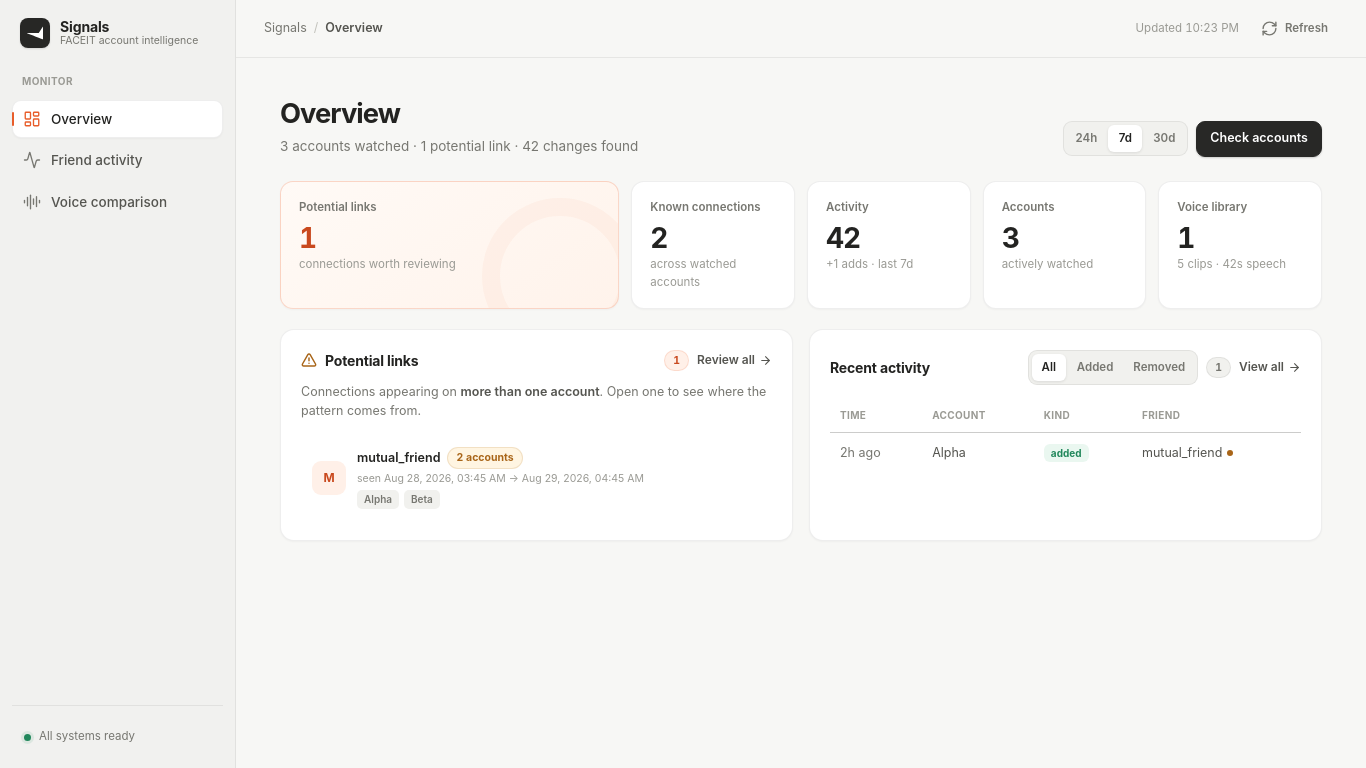
Scenario: overview dashboard › opens the watch list filtered when an overlap row is clicked
The image size is (1366, 768).
expect the text "2 accounts" is shown: met, box [448,447,523,468]
Click the button "mutual_friend": point(536, 478) [301,436,772,520]
(page scrolled)
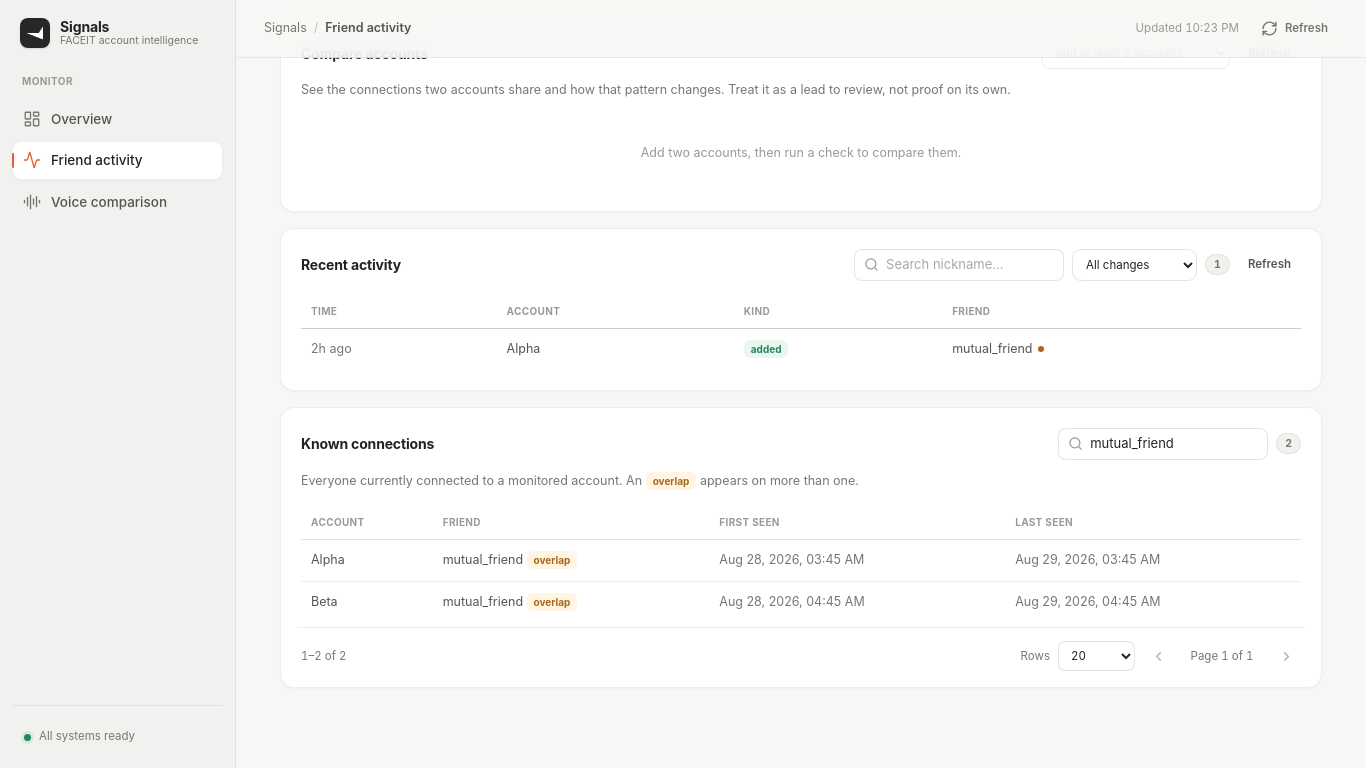
expect the search field named "Search watched friends" holds "mutual_friend": met, box [1090,429,1258,459]
